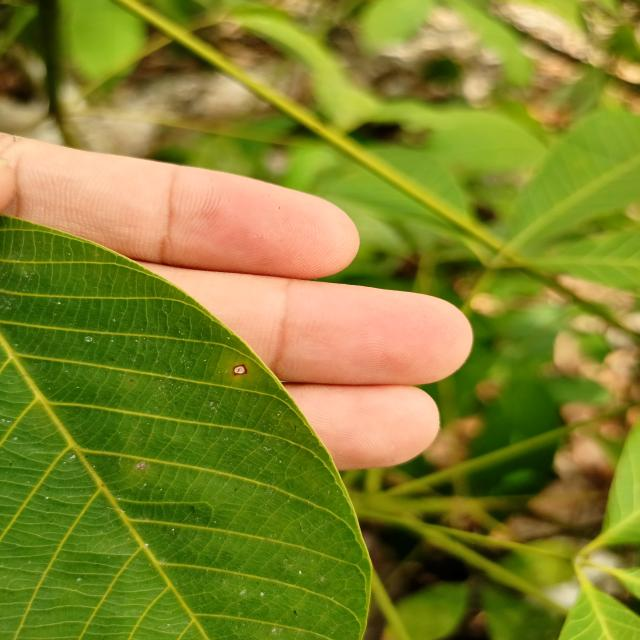Colletotrichum: (233, 364, 248, 376)
